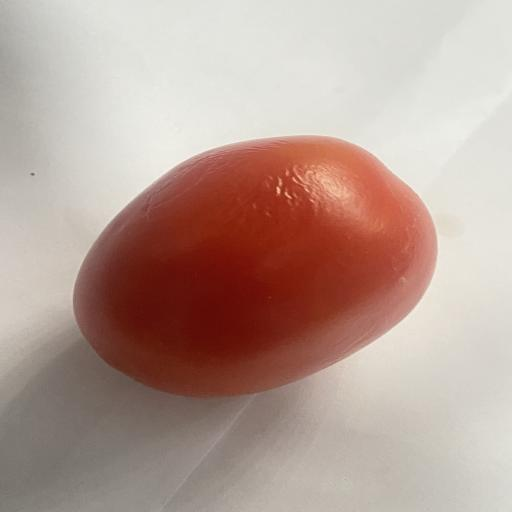overipe: (73, 136, 437, 397)
